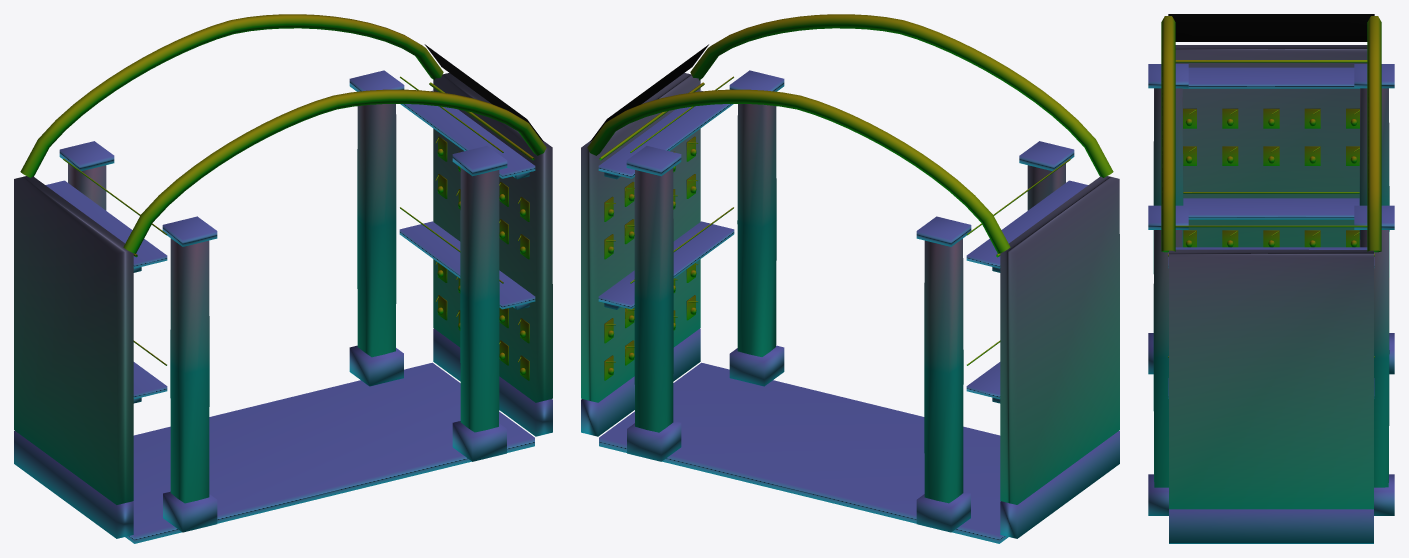
File: lowlight_nave_bay.glb
3 views of the same model, side by side, from view 1: azimuth 30°, elevation 25°; view 2: azimuth 150°, elevation 25°; view 3: azimuth 270°, elevation 25° (orthographic).
Visible parts, largest first — view 1: lowlight_nave_bay; view 2: lowlight_nave_bay; view 3: lowlight_nave_bay.
Boxes of the visible parts, <box> form: lowlight_nave_bay: <box>14,14,552,543</box>; lowlight_nave_bay: <box>581,14,1119,543</box>; lowlight_nave_bay: <box>1148,14,1394,543</box>.
Size of what is drawn, in the model's own units: 19.57 by 17.13 by 9.56.
